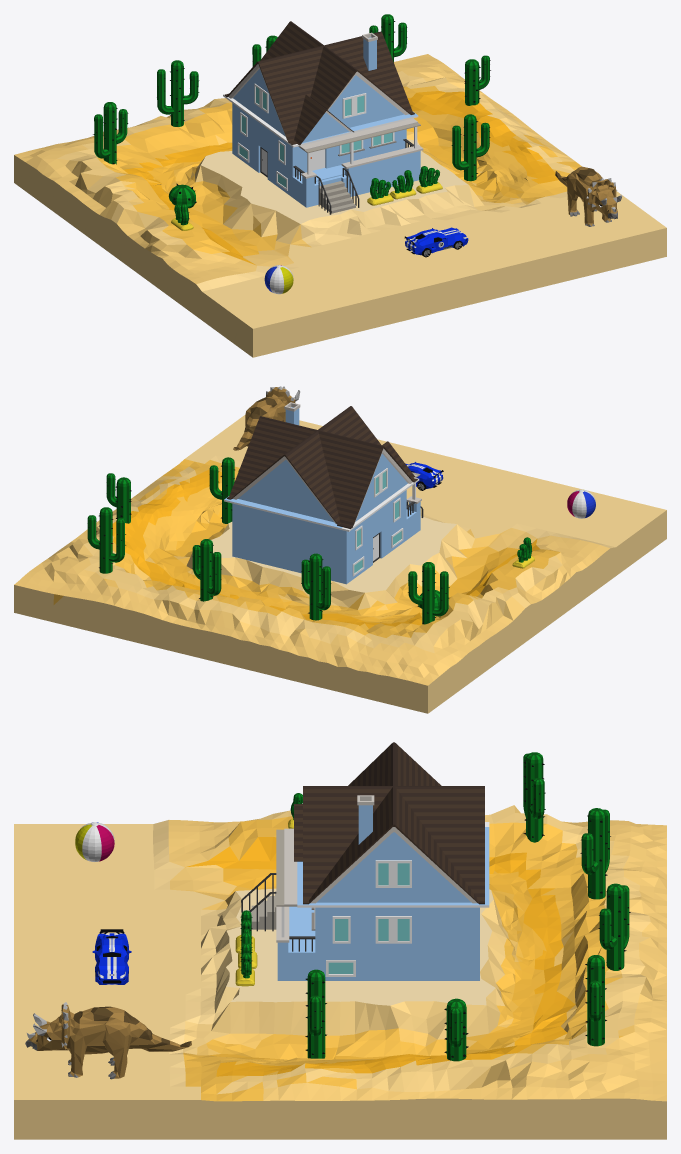
3 views of the same model, one above another, from view 1: azimuth 30°, elevation 25°; view 2: azimuth 150°, elevation 25°; view 3: azimuth 270°, elevation 25° (orthographic). The views are drawn at different scales.
Visible parts, largest first — view 1: Cube.001, Cube.1594, ANIMAL_Triceratops, Cylinder.044, Cylinder.037, Cylinder.045, VEHICLES_RACING_CAR, Cylinder.038, Cylinder.042, OBJRANDOM_BEACHBALL, Cylinder.039, Cylinder.041; view 2: Cube.001, Cube.1594, Cylinder.042, Cylinder.045, Cylinder.044, ANIMAL_Triceratops, Cylinder.043, Cylinder.037, Cylinder.038, OBJRANDOM_BEACHBALL, VEHICLES_RACING_CAR; view 3: Cube.001, Cube.1594, ANIMAL_Triceratops, Cylinder.043, Cylinder.044, VEHICLES_RACING_CAR, Cylinder.045, Cylinder.037, Cylinder.042, Cylinder.038, OBJRANDOM_BEACHBALL, Cylinder.041.
Part boxes in pixels (x1=…): Cube.001: x1=14, y1=54, x2=666, y2=357; Cube.1594: x1=223, y1=21, x2=423, y2=214; ANIMAL_Triceratops: x1=555, y1=166, x2=622, y2=226; Cylinder.044: x1=157, y1=60, x2=199, y2=126; Cylinder.037: x1=451, y1=114, x2=490, y2=181; Cylinder.045: x1=93, y1=102, x2=128, y2=164; VEHICLES_RACING_CAR: x1=404, y1=227, x2=468, y2=257; Cylinder.038: x1=464, y1=55, x2=490, y2=105; Cylinder.042: x1=369, y1=14, x2=407, y2=62; OBJRANDOM_BEACHBALL: x1=264, y1=265, x2=293, y2=294; Cylinder.039: x1=367, y1=178, x2=393, y2=205; Cylinder.041: x1=416, y1=166, x2=442, y2=193; Cube.001: x1=14, y1=414, x2=666, y2=713; Cube.1594: x1=224, y1=402, x2=423, y2=584; Cylinder.042: x1=87, y1=507, x2=125, y2=573; Cylinder.045: x1=408, y1=562, x2=449, y2=624; Cylinder.044: x1=301, y1=553, x2=331, y2=620; ANIMAL_Triceratops: x1=233, y1=386, x2=300, y2=450; Cylinder.043: x1=192, y1=539, x2=221, y2=601; Cylinder.037: x1=209, y1=457, x2=239, y2=523; Cylinder.038: x1=106, y1=473, x2=131, y2=523; OBJRANDOM_BEACHBALL: x1=567, y1=489, x2=595, y2=518; VEHICLES_RACING_CAR: x1=405, y1=462, x2=443, y2=490; Cube.001: x1=14, y1=805, x2=666, y2=1139; Cube.1594: x1=241, y1=742, x2=489, y2=980; ANIMAL_Triceratops: x1=25, y1=1002, x2=191, y2=1079; Cylinder.043: x1=598, y1=883, x2=630, y2=970; Cylinder.044: x1=580, y1=808, x2=610, y2=899; VEHICLES_RACING_CAR: x1=92, y1=929, x2=131, y2=984; Cylinder.045: x1=523, y1=752, x2=545, y2=842; Cylinder.037: x1=305, y1=969, x2=326, y2=1058; Cylinder.042: x1=585, y1=955, x2=606, y2=1046; Cylinder.038: x1=444, y1=998, x2=468, y2=1061; OBJRANDOM_BEACHBALL: x1=75, y1=822, x2=114, y2=861; Cylinder.041: x1=235, y1=943, x2=254, y2=986.
Size of the model in its own units: 4002 by 1728 by 4001.
35 materials, 2 textured.
